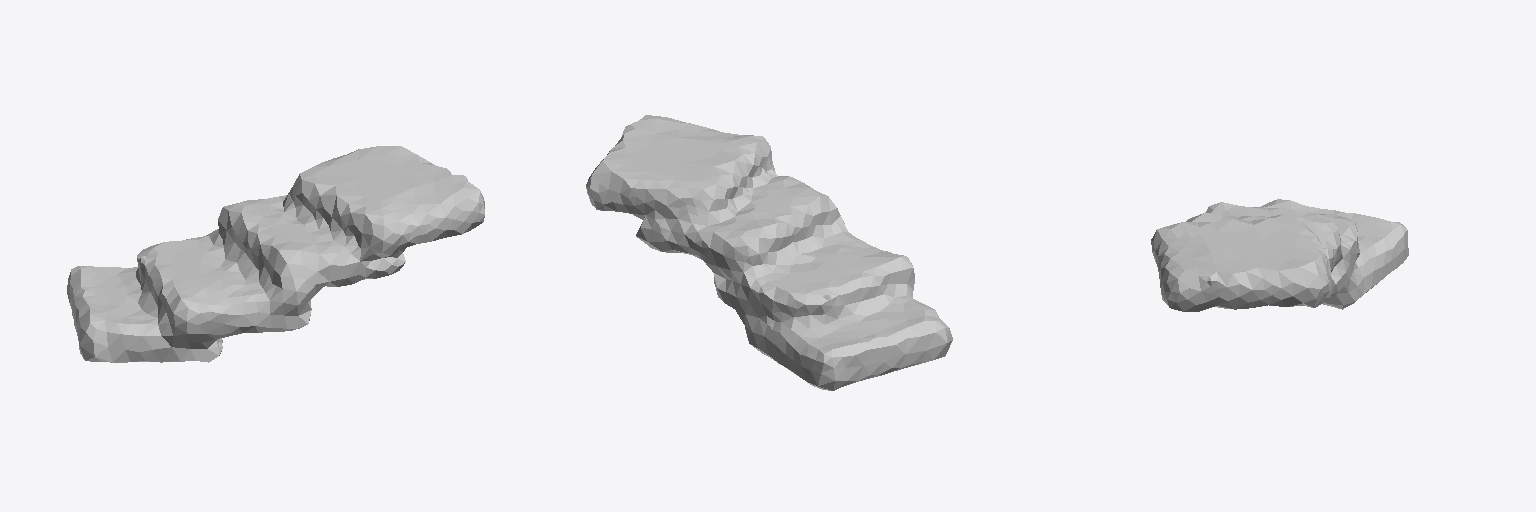
Rendered from plataforma_4.obj.
3 views of the same model, side by side, from view 1: azimuth 30°, elevation 25°; view 2: azimuth 150°, elevation 25°; view 3: azimuth 270°, elevation 25° (orthographic).
Visible parts, largest first — view 1: StonePlatform_B_Stone_B; view 2: StonePlatform_B_Stone_B; view 3: StonePlatform_B_Stone_B.
Part boxes in pixels (bbox=[...]): StonePlatform_B_Stone_B: bbox=[67, 146, 484, 362]; StonePlatform_B_Stone_B: bbox=[586, 115, 952, 390]; StonePlatform_B_Stone_B: bbox=[1151, 199, 1408, 311].
Bounding box in the file's own units: 3.99 × 1.39 × 2.5.